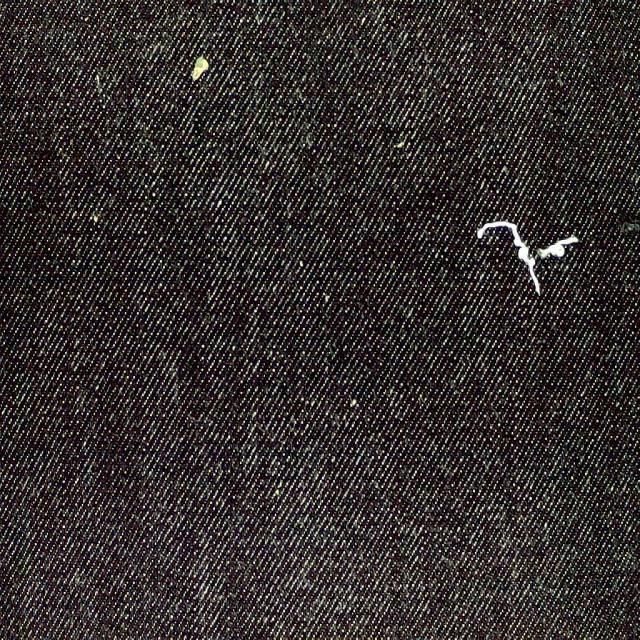defect: (472, 216, 585, 304)
